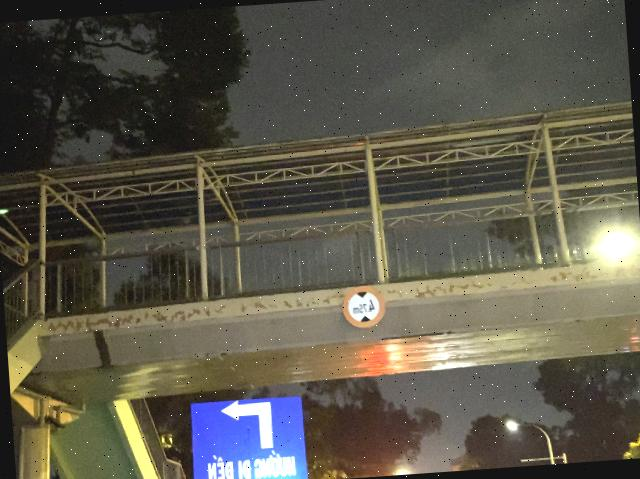han-che-chieu-cao: (341, 284, 386, 328)
